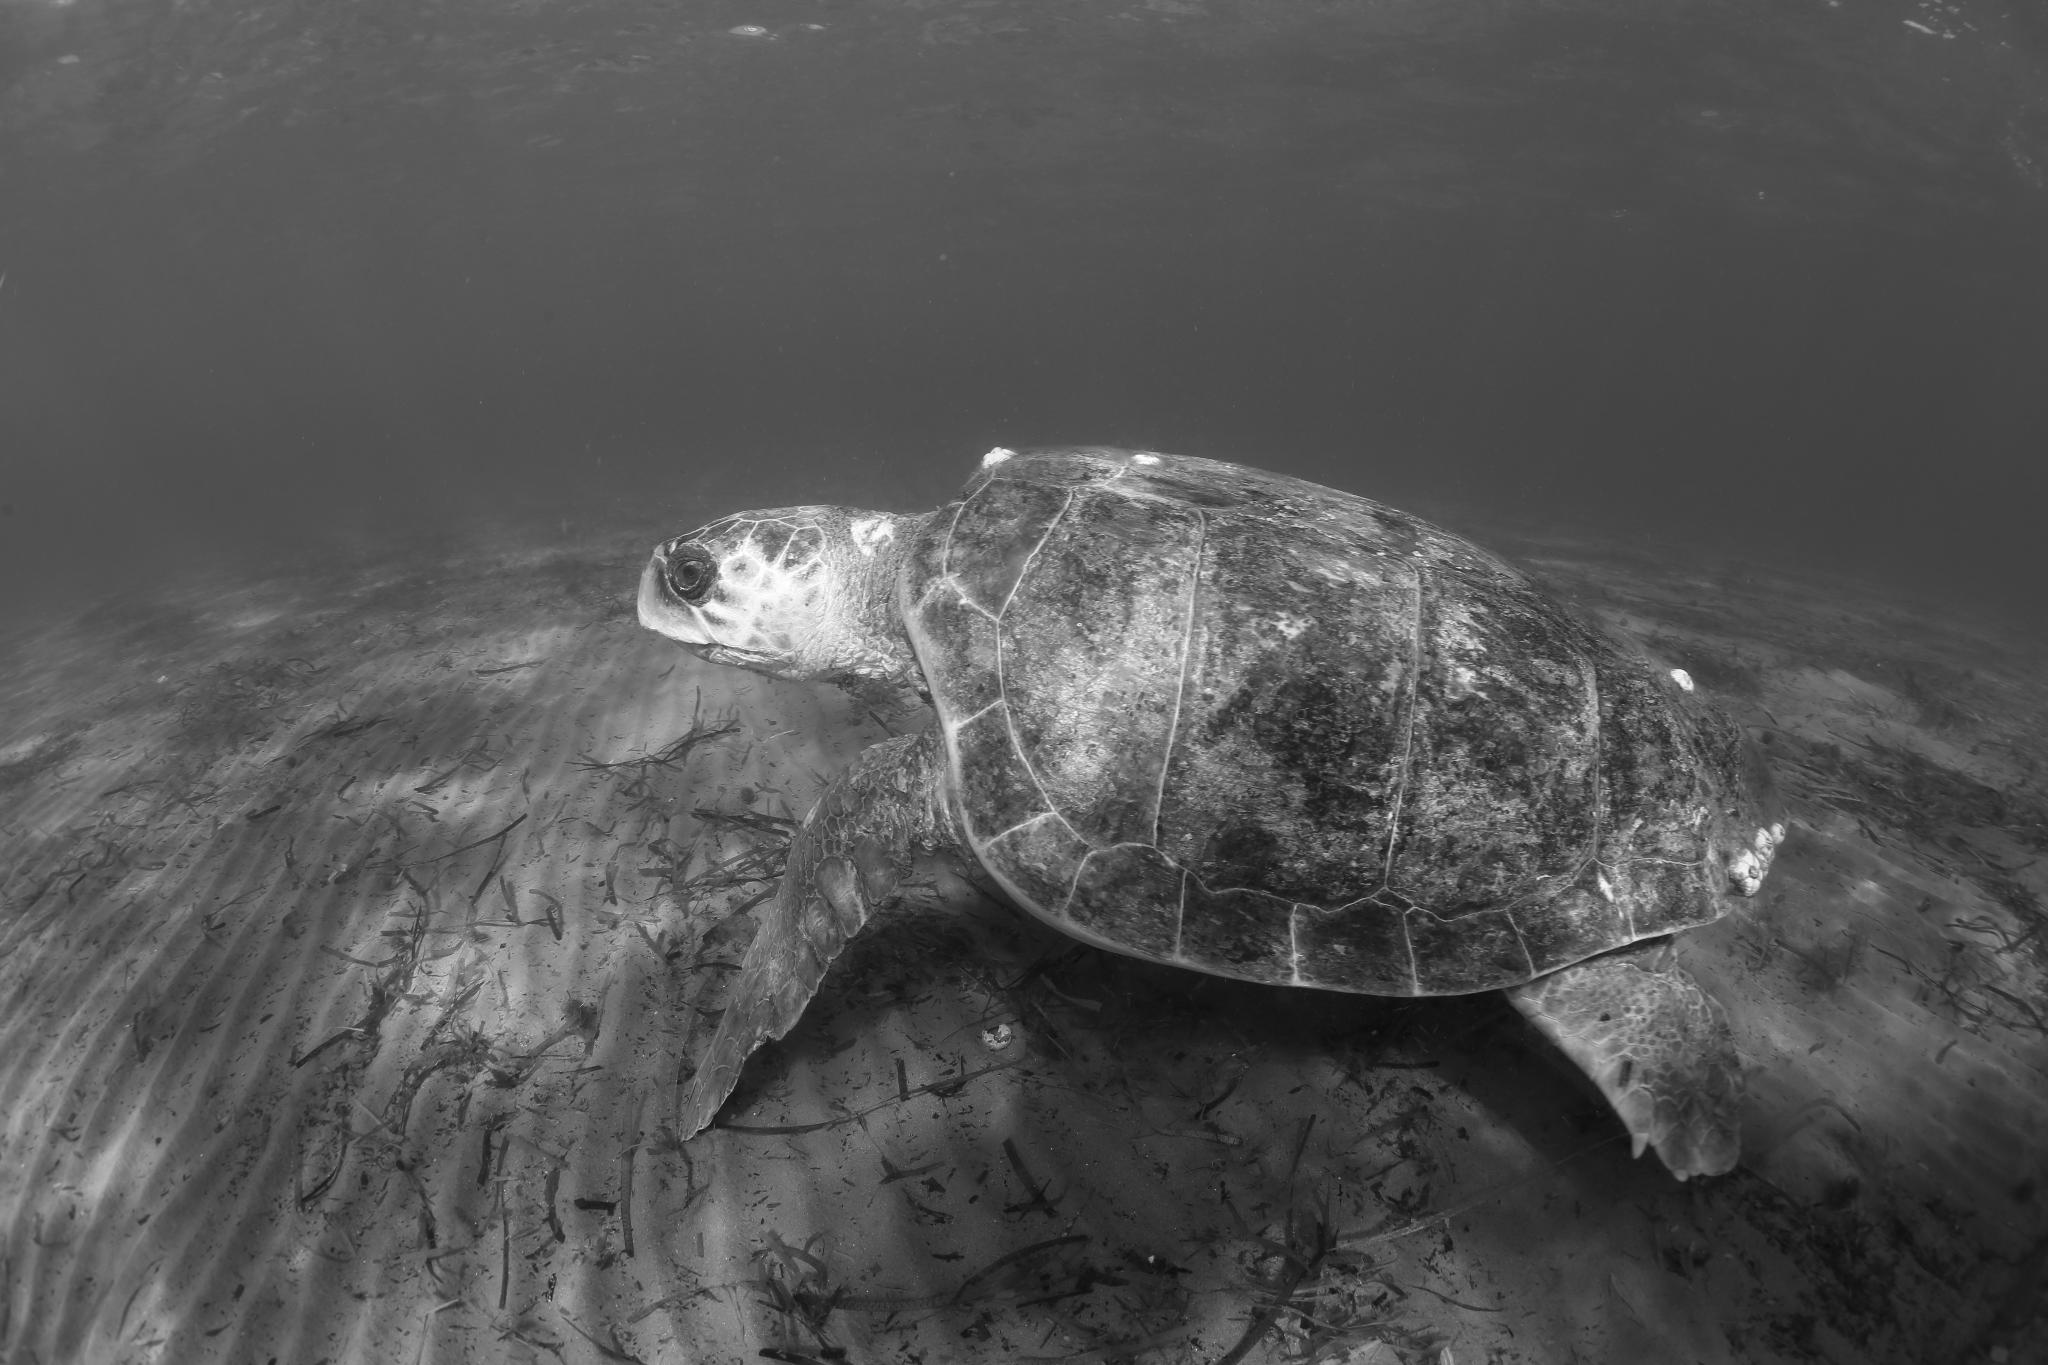Head: (637, 506, 928, 687)
